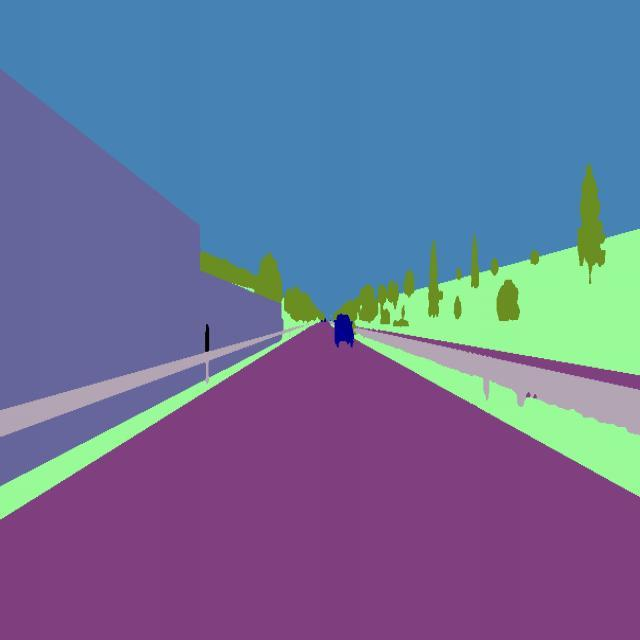safe: (330, 308, 358, 352)
